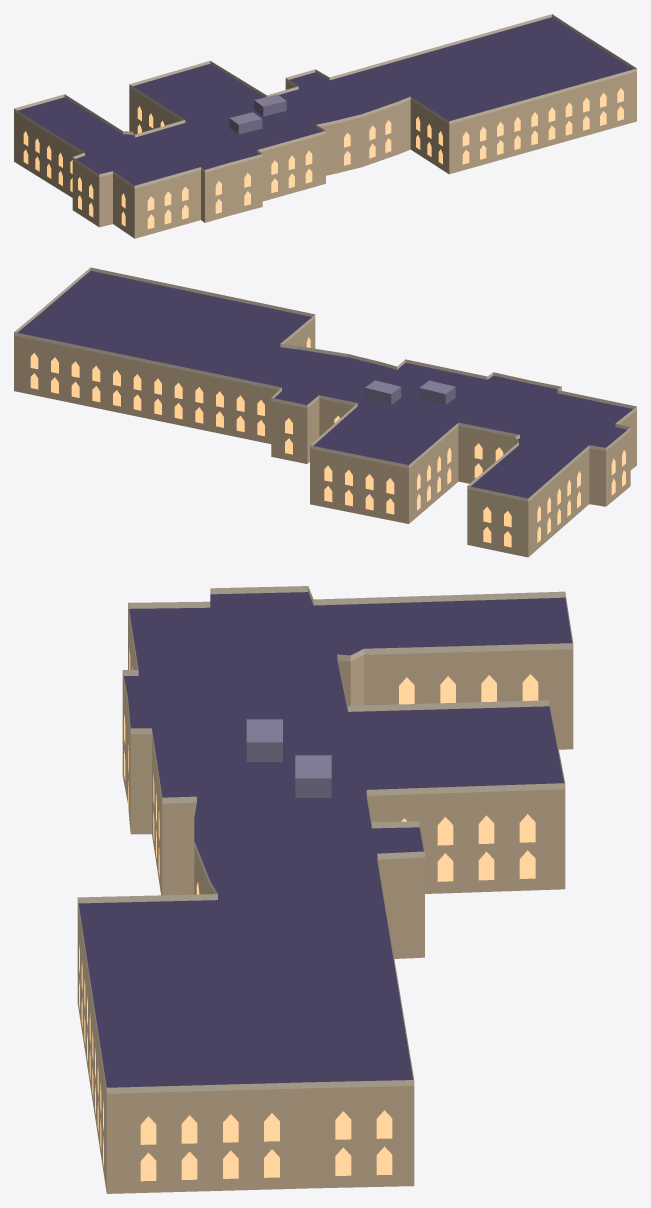
The model's file is b-090-siebens-centre.glb.
3 renders of one model, top to bottom at view 1: azimuth 30°, elevation 25°; view 2: azimuth 150°, elevation 25°; view 3: azimuth 270°, elevation 25°, orthographic. The views are drawn at different scales.
Parts seen in each view (by area): view 1: campus/b-090-siebens-centre-0; view 2: campus/b-090-siebens-centre-0; view 3: campus/b-090-siebens-centre-0.
Boxes of the visible parts, <box> form: campus/b-090-siebens-centre-0: <box>14,14,636,238</box>; campus/b-090-siebens-centre-0: <box>14,267,636,557</box>; campus/b-090-siebens-centre-0: <box>77,586,573,1193</box>.
Size of the model in its own units: 97.81 by 10.9 by 40.82.
